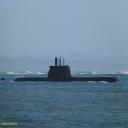submarine: (2, 55, 128, 83)
